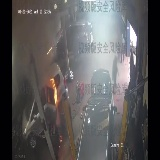fire: (47, 70, 59, 110)
